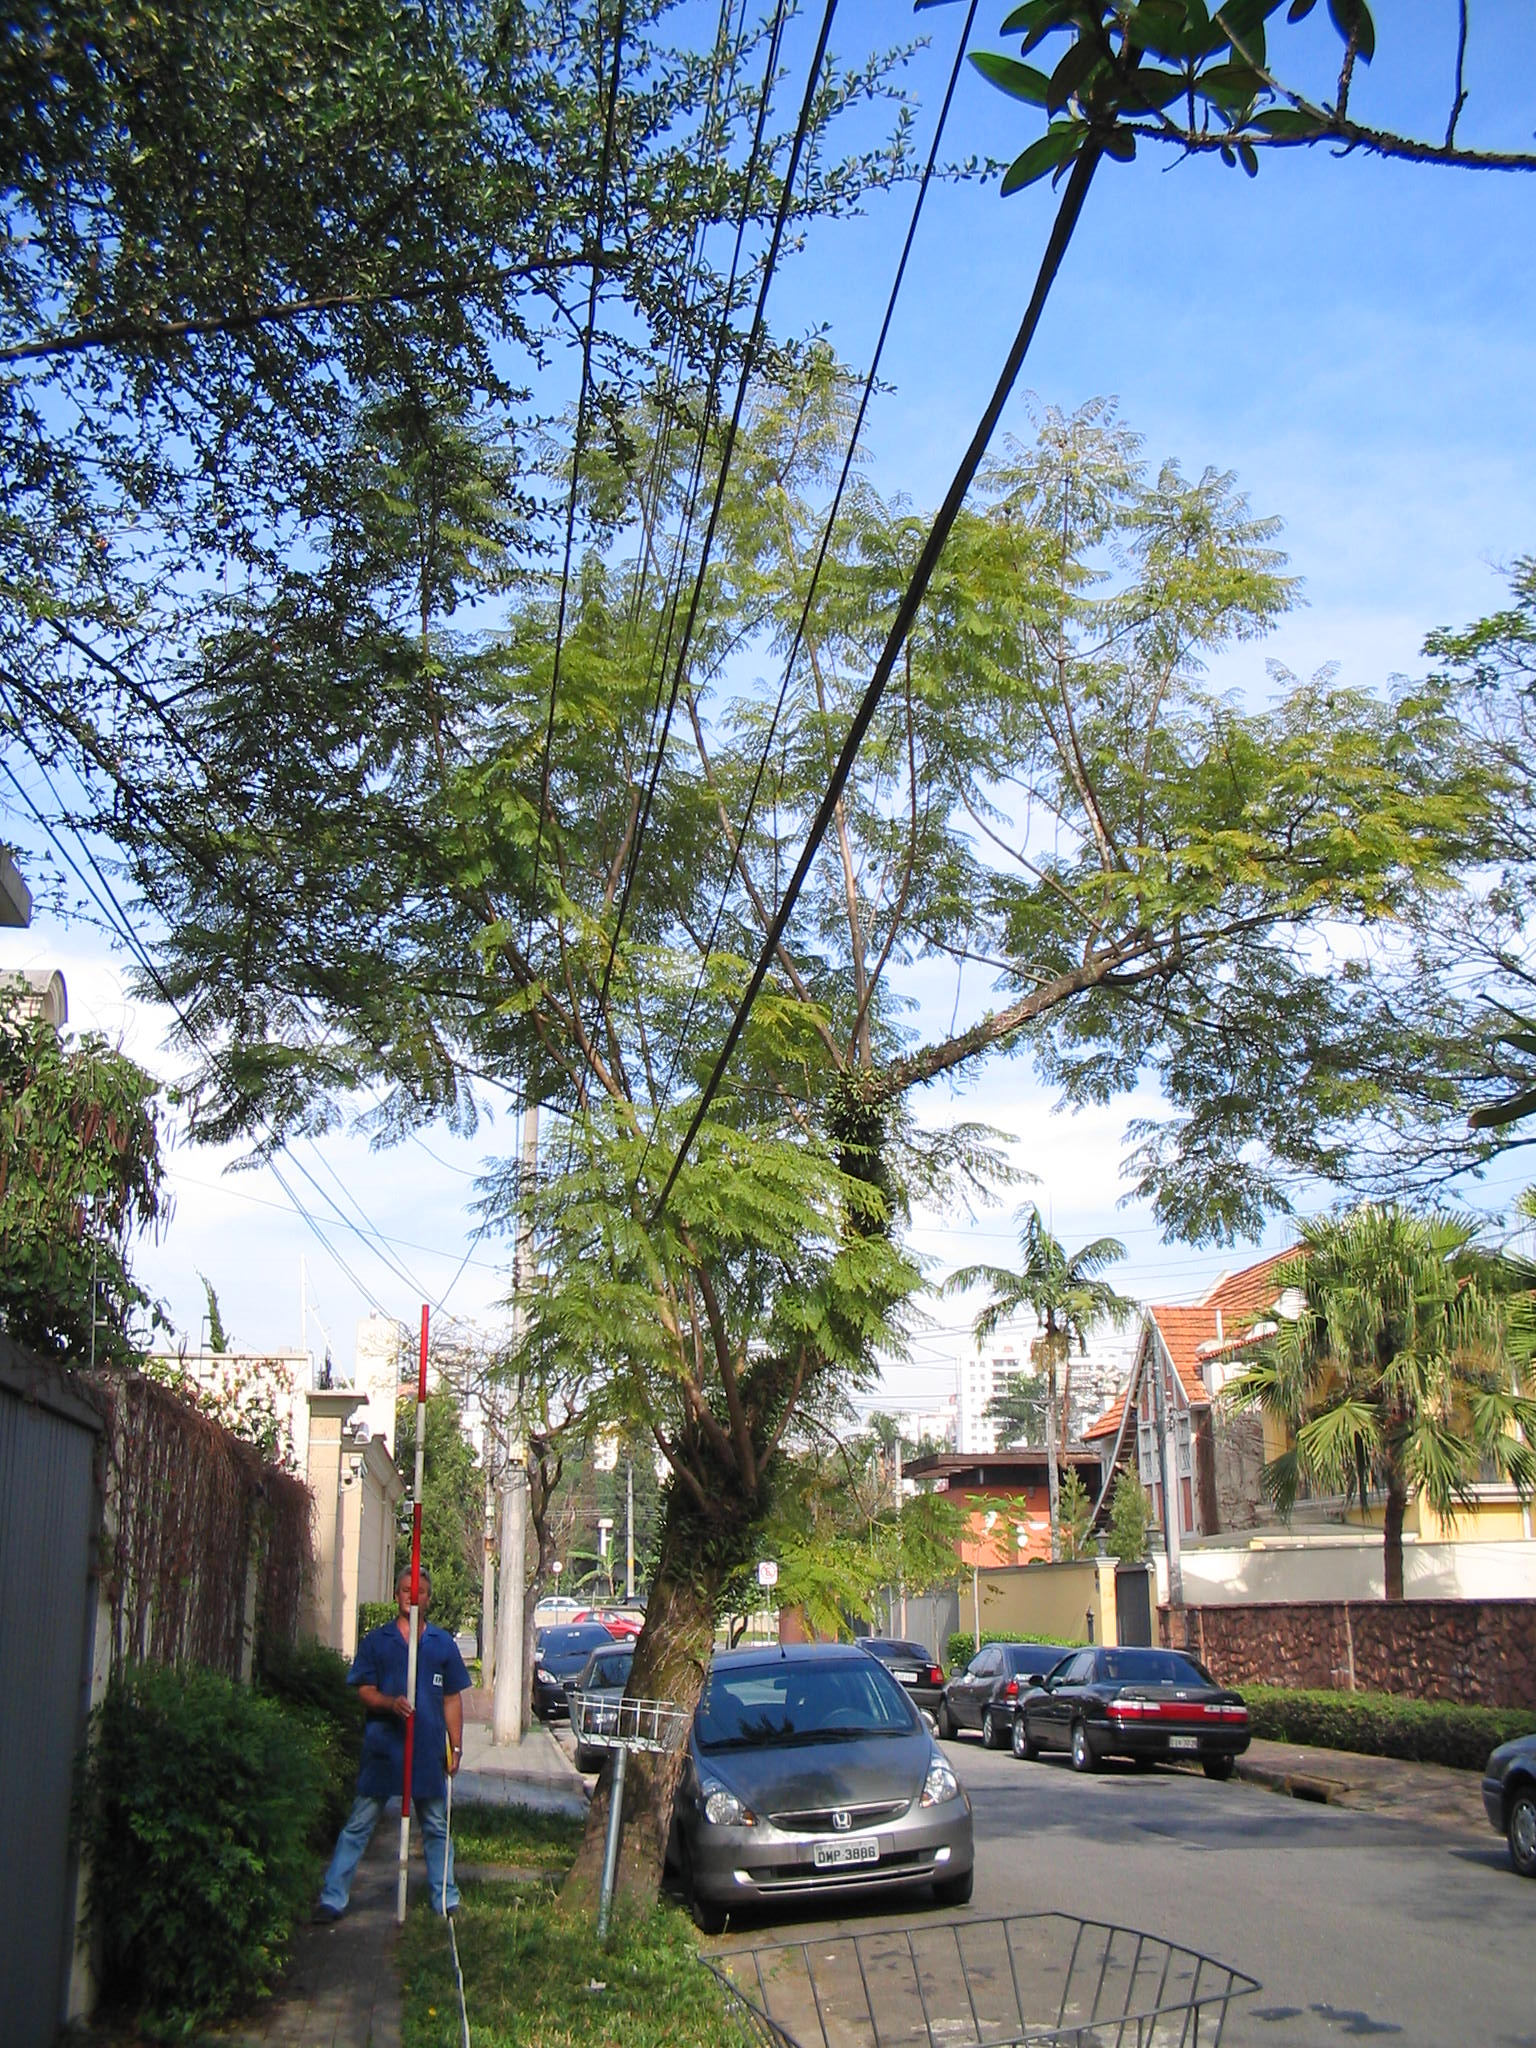crown: (148, 361, 1525, 1487)
stem: (523, 1467, 810, 1934)
stick: (360, 1300, 445, 1935)
tree: (140, 353, 1525, 1940), (1225, 1205, 1520, 1595), (939, 1221, 1167, 1550)
